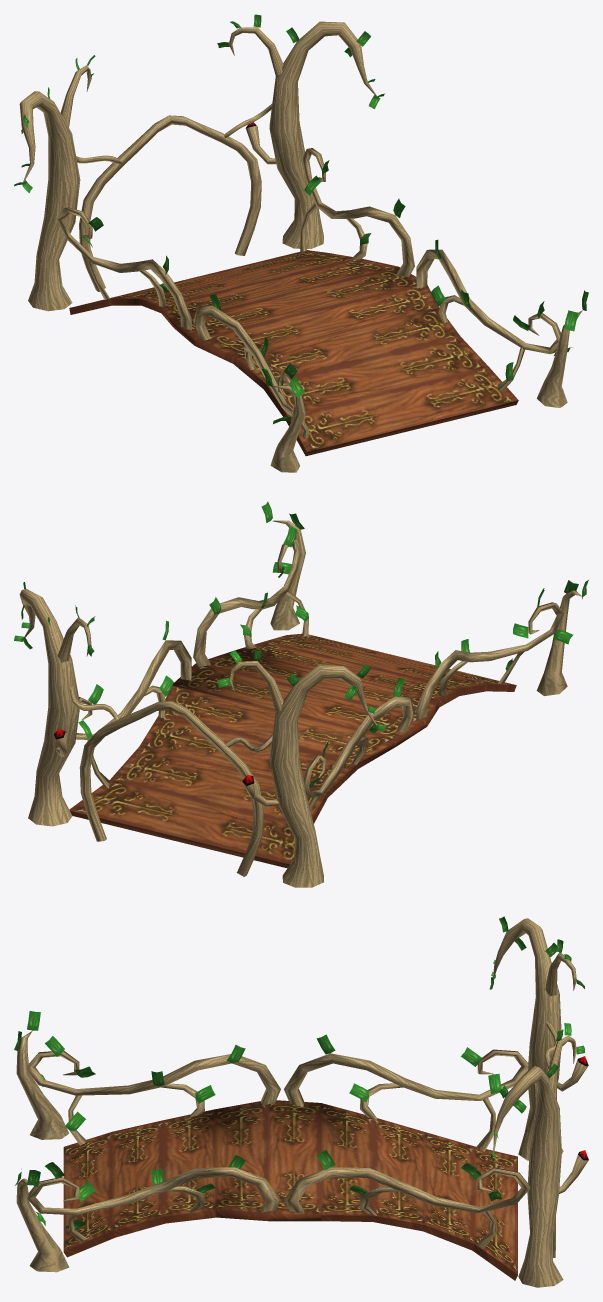
File: THRONE_ROOM_BRIDGEONLY_TH_MAINBRIDGE76__GX.fbx
3 views of the same model, one above another, from view 1: azimuth 30°, elevation 25°; view 2: azimuth 150°, elevation 25°; view 3: azimuth 270°, elevation 25° (orthographic).
Parts seen in each view (by area): view 1: THRONE_ROOM_BRIDGEONLY_TH_MAINBRIDGE76__GX; view 2: THRONE_ROOM_BRIDGEONLY_TH_MAINBRIDGE76__GX; view 3: THRONE_ROOM_BRIDGEONLY_TH_MAINBRIDGE76__GX.
Boxes of the visible parts, box(x1,y1,x2,y2) form: THRONE_ROOM_BRIDGEONLY_TH_MAINBRIDGE76__GX: box(14, 14, 588, 472); THRONE_ROOM_BRIDGEONLY_TH_MAINBRIDGE76__GX: box(14, 501, 588, 887); THRONE_ROOM_BRIDGEONLY_TH_MAINBRIDGE76__GX: box(14, 916, 588, 1287).
Size of the model in its own units: 55920 by 33552 by 73858.
5 materials, 5 textured.
